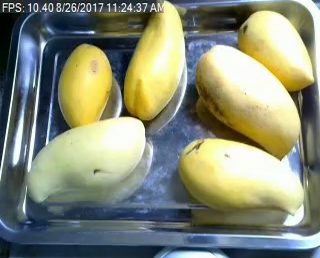Mango: (197, 44, 300, 156), (25, 117, 145, 202), (180, 138, 305, 212), (124, 1, 182, 119), (238, 9, 315, 91), (58, 43, 111, 126)
